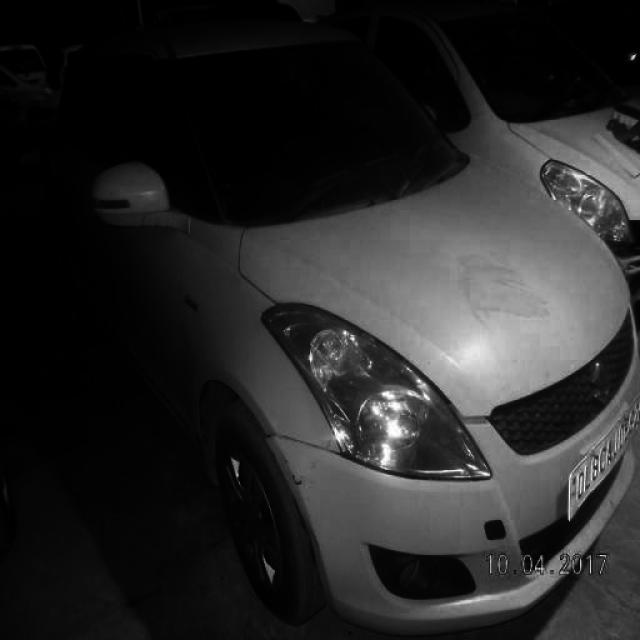car damage: (455, 251, 555, 320), (278, 450, 313, 491)
